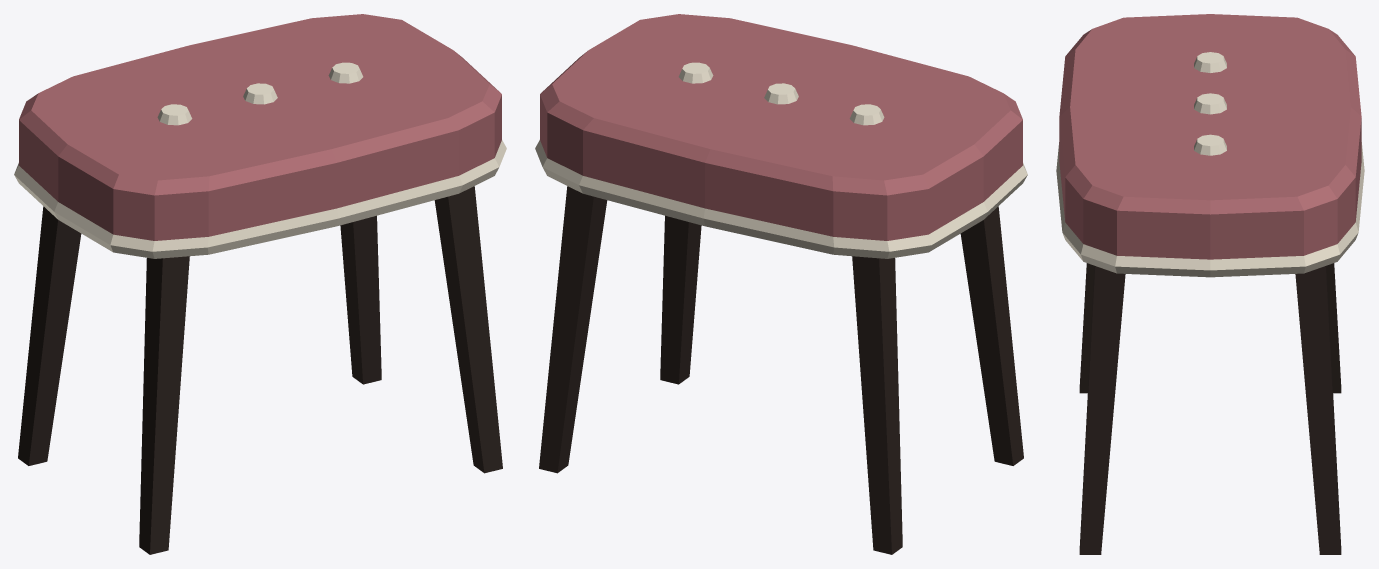
File: FN_Stool_Dressing.glb
3 renders of one model, left to right at view 1: azimuth 30°, elevation 25°; view 2: azimuth 150°, elevation 25°; view 3: azimuth 270°, elevation 25°, orthographic.
Parts seen in each view (by area): view 1: FN_Stool_Dressing; view 2: FN_Stool_Dressing; view 3: FN_Stool_Dressing.
Part boxes in pixels (left/top/right/bottom): FN_Stool_Dressing: left=14, top=14, right=506, bottom=554; FN_Stool_Dressing: left=535, top=14, right=1027, bottom=554; FN_Stool_Dressing: left=1056, top=14, right=1364, bottom=554.
Size of the model in its own units: 0.5304 by 0.46 by 0.3468.
1 material, 1 textured.
